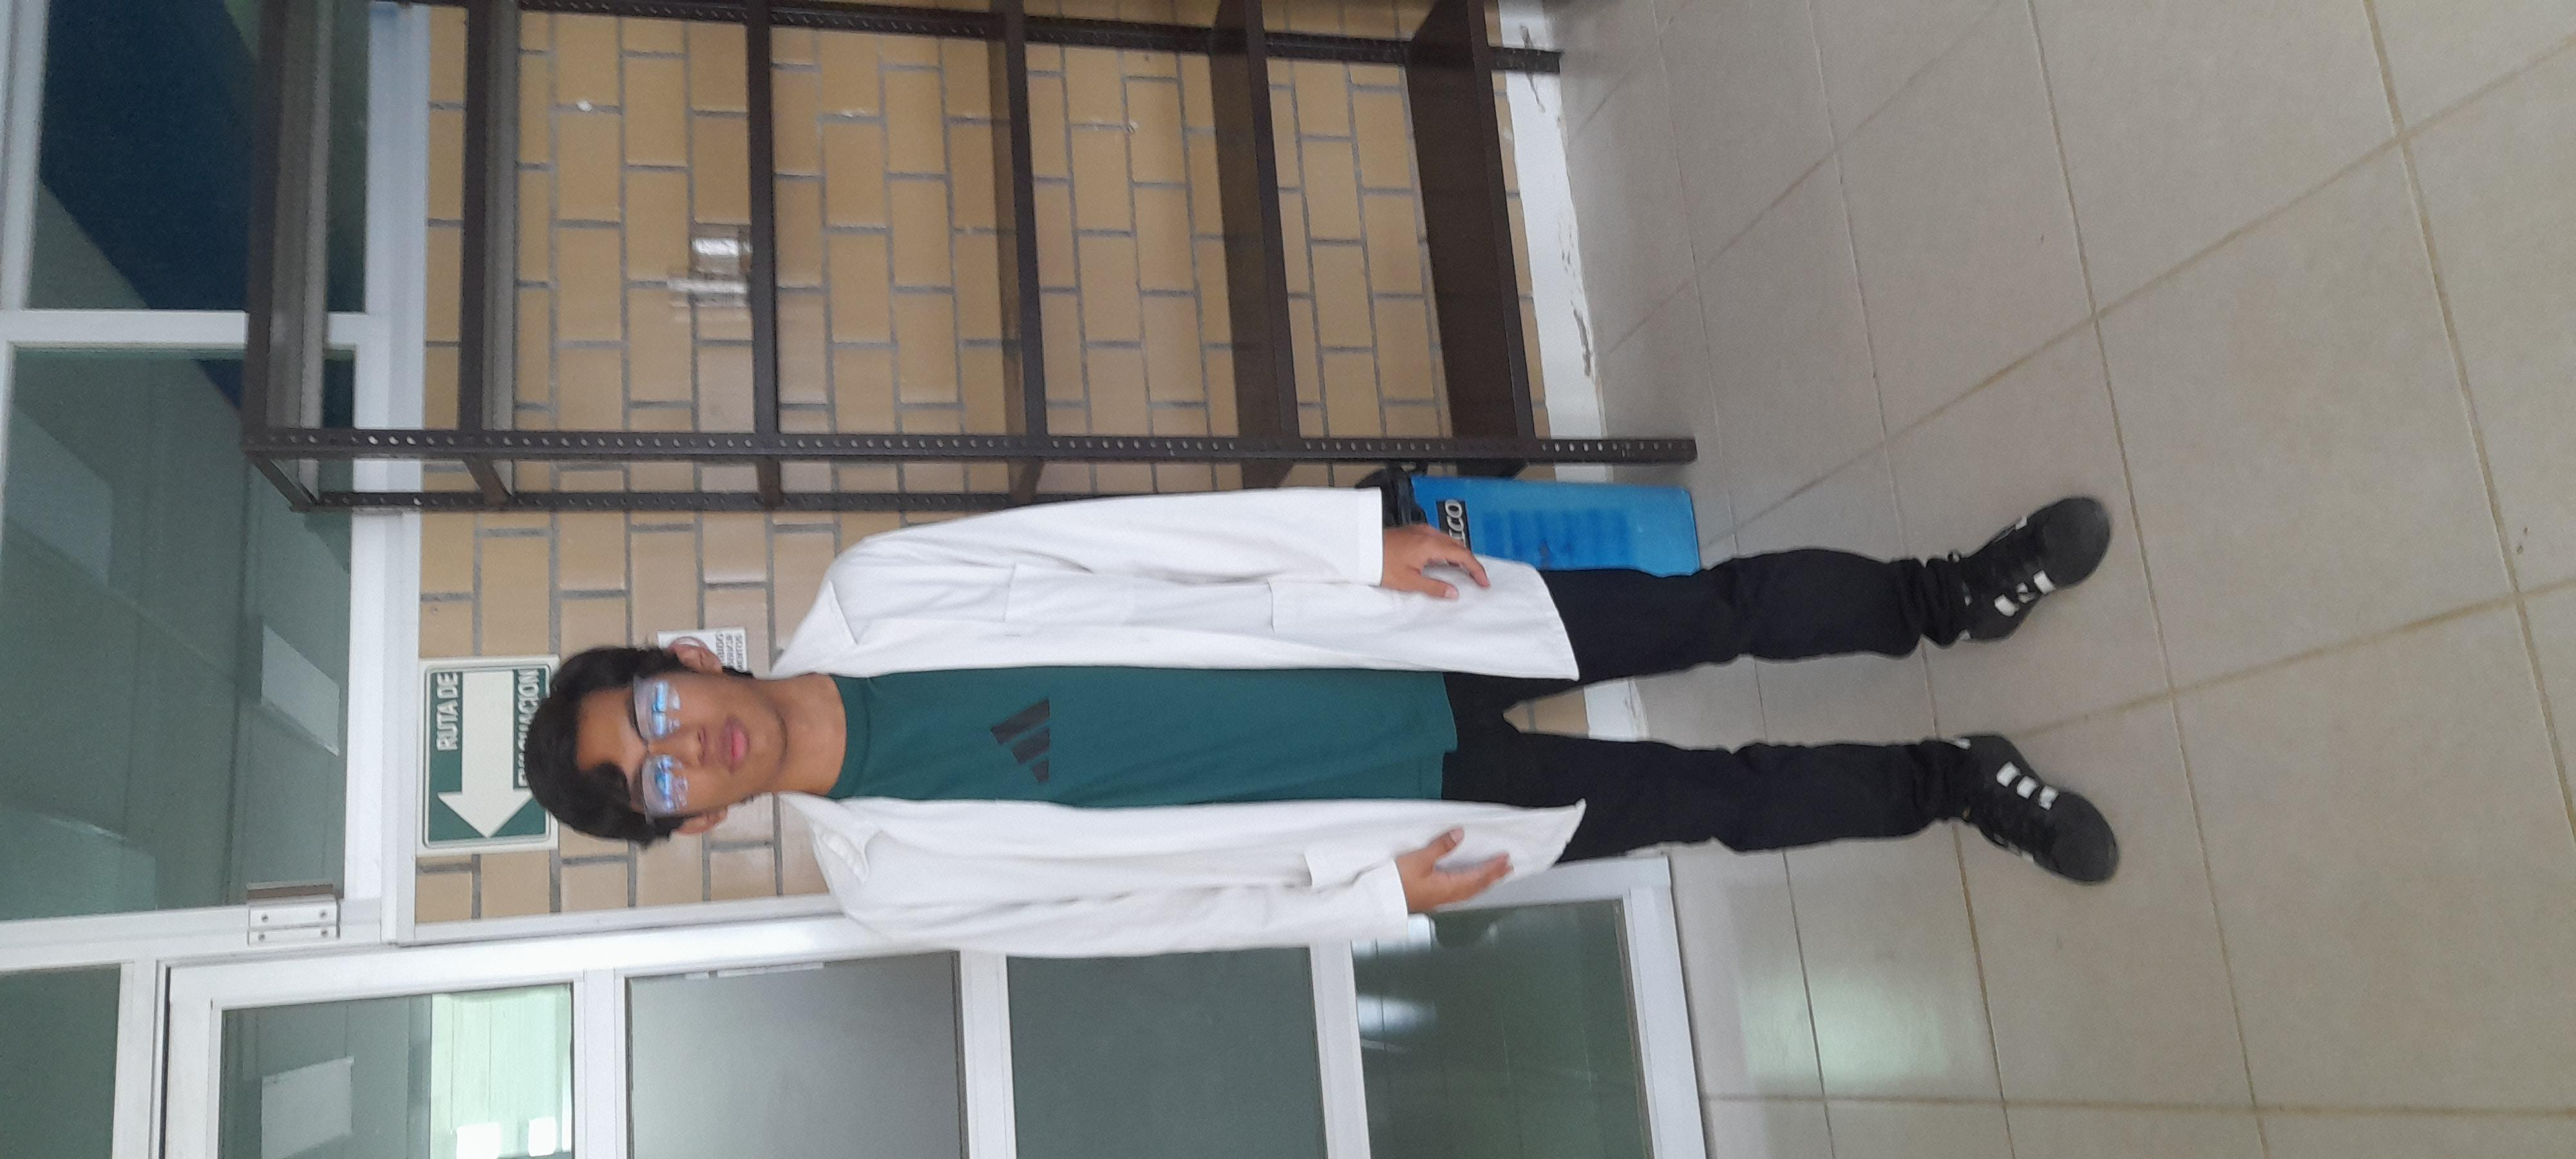Bata-Incorrecta: (453, 236, 1490, 954)
